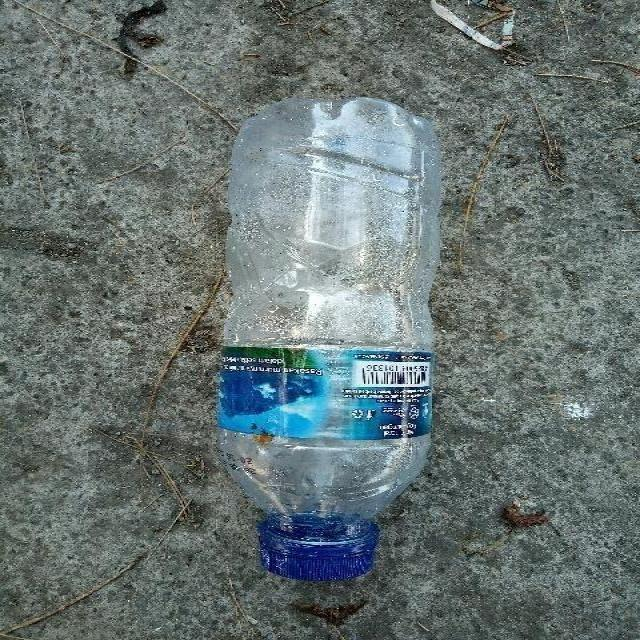bottle-plastic: (206, 97, 454, 588)
